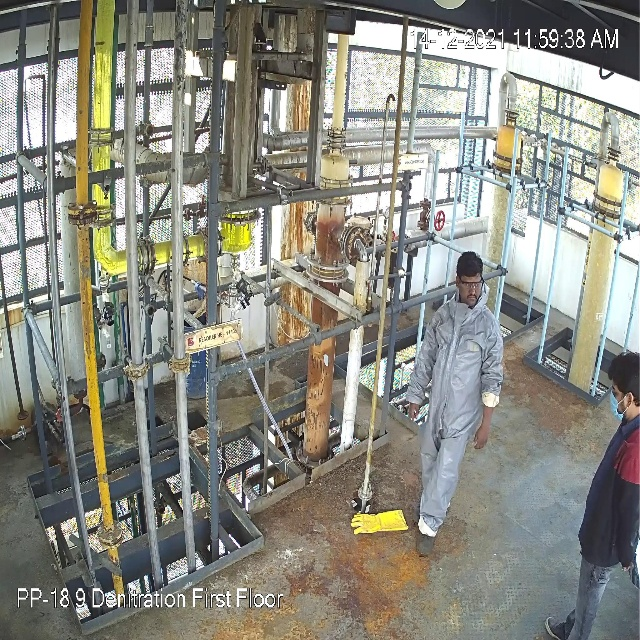Gafas: (460, 275, 482, 287)
Sin_guantes: (473, 402, 492, 454)
Sin_mascara: (459, 285, 483, 306)
